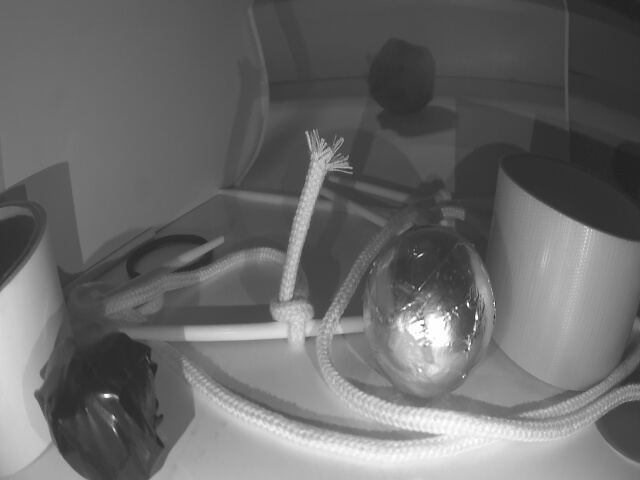Dead: (39, 330, 175, 480)
Live: (366, 223, 495, 400)
